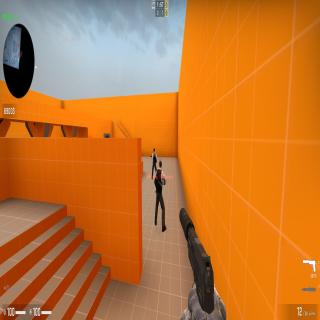T-Body: (154, 160, 167, 232), (152, 148, 158, 180)
T-Head: (159, 160, 162, 170), (153, 148, 155, 152)
